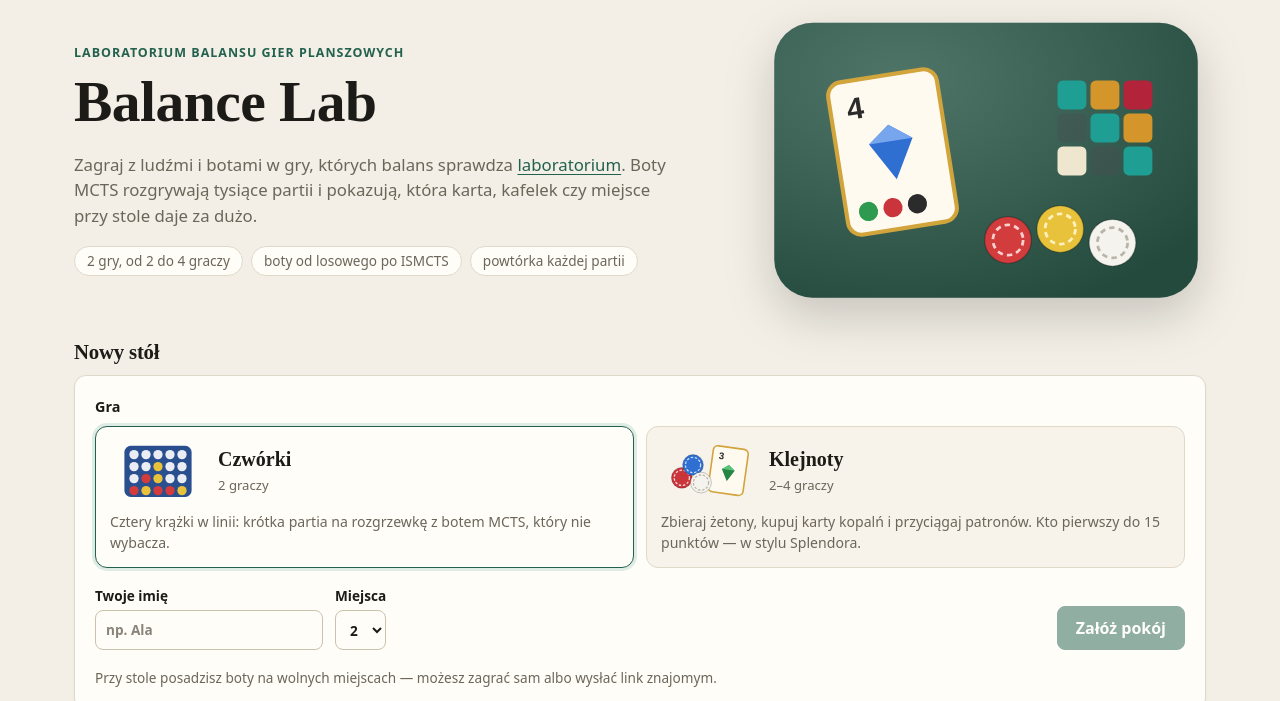
Test: LobbyPage while a room is being created › locks the button until the server answers, so a double click makes one room
This screenshot has width=1280, height=701.
In the field labelled "Twoje imię": [209, 630] box 95,610 -> 323,650, type "Ala"
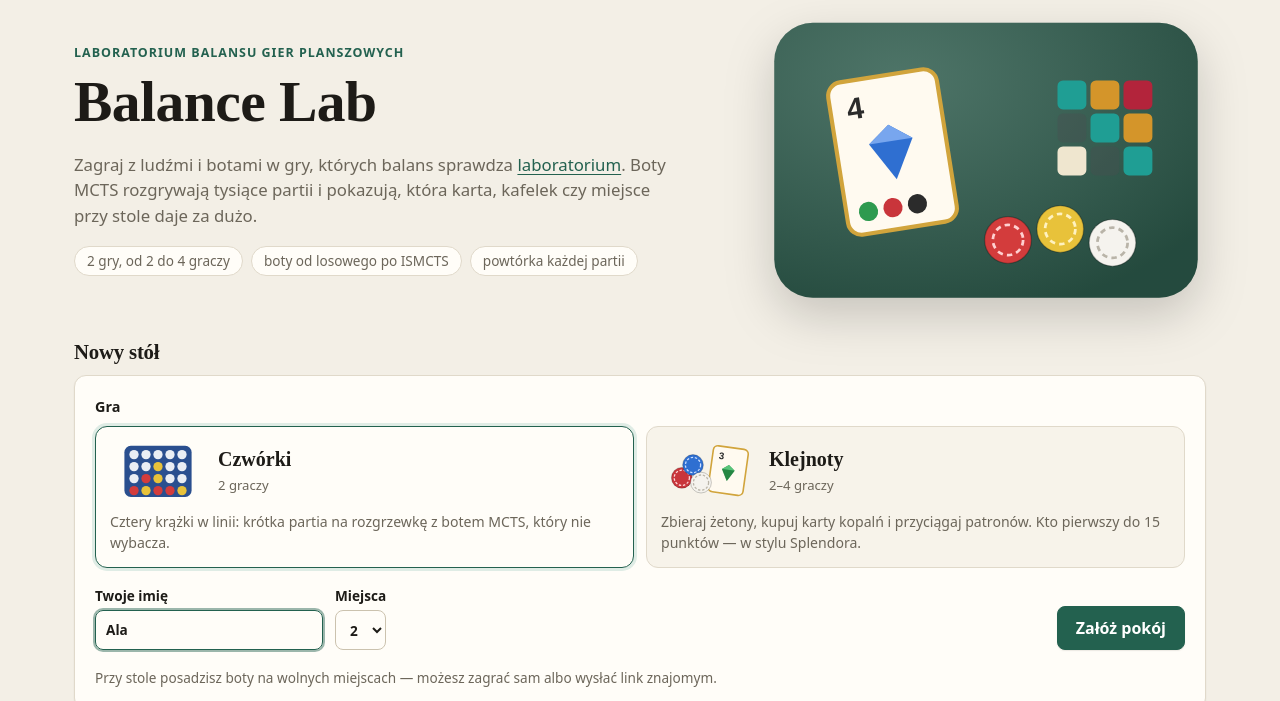
Double-click the button "Załóż pokój": [1121, 628] box 1057,606 -> 1185,650
(page scrolled)
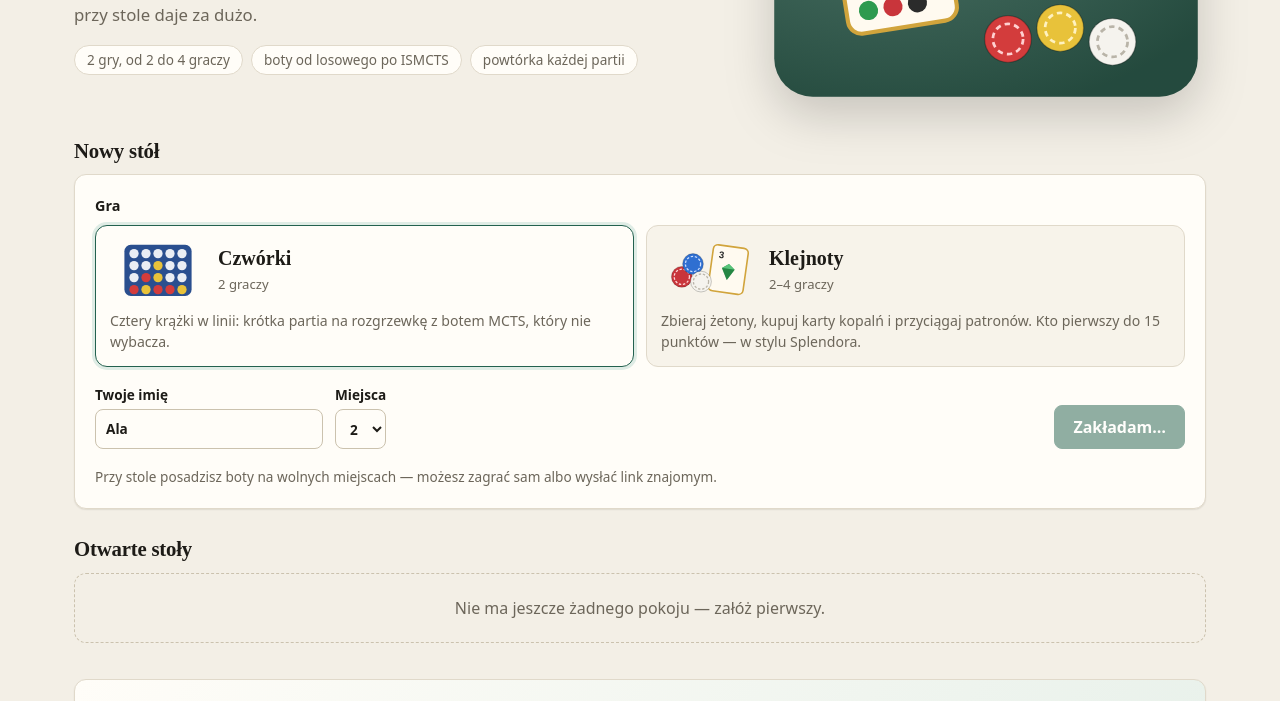
Expected: the button "Zakładam…" is disabled, 1054,405 -> 1185,449
# Enter w polu tez wysyla formularz — i on nie zaklada drugiego pokoju.
Submit the form named "Nowy pokój", box 74,174 -> 1206,509
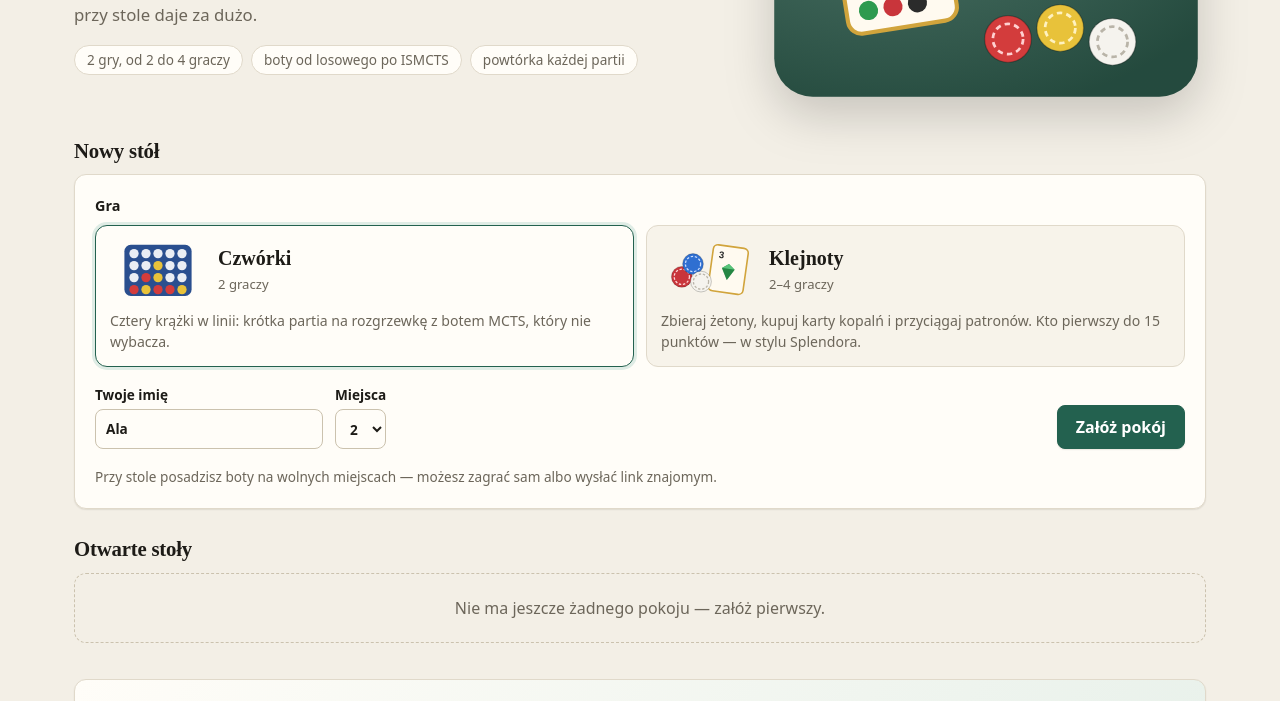
Expected: the button "Załóż pokój" is enabled, 1057,405 -> 1185,449
